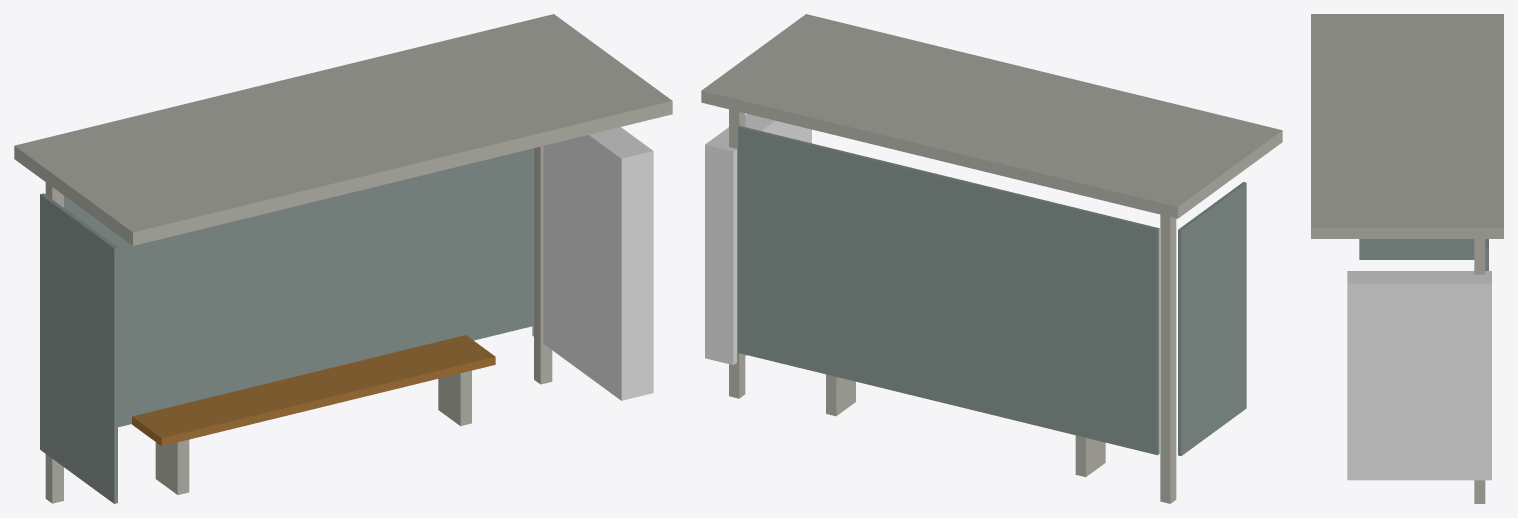
File: SM_ParadaBus_v2_Anuncio_LOD0.fbx
3 views of the same model, side by side, from view 1: azimuth 30°, elevation 25°; view 2: azimuth 150°, elevation 25°; view 3: azimuth 270°, elevation 25° (orthographic). The views are drawn at different scales.
Visible parts, largest first — view 1: SM_urbano_extra_v7_LOD0; view 2: SM_urbano_extra_v7_LOD0; view 3: SM_urbano_extra_v7_LOD0.
Part boxes in pixels (x1,y1,x2,y2): SM_urbano_extra_v7_LOD0: (14, 14, 672, 503); SM_urbano_extra_v7_LOD0: (701, 14, 1282, 503); SM_urbano_extra_v7_LOD0: (1311, 14, 1503, 503).
Size of the model in its own units: 4.22 by 2.6 by 1.6.
